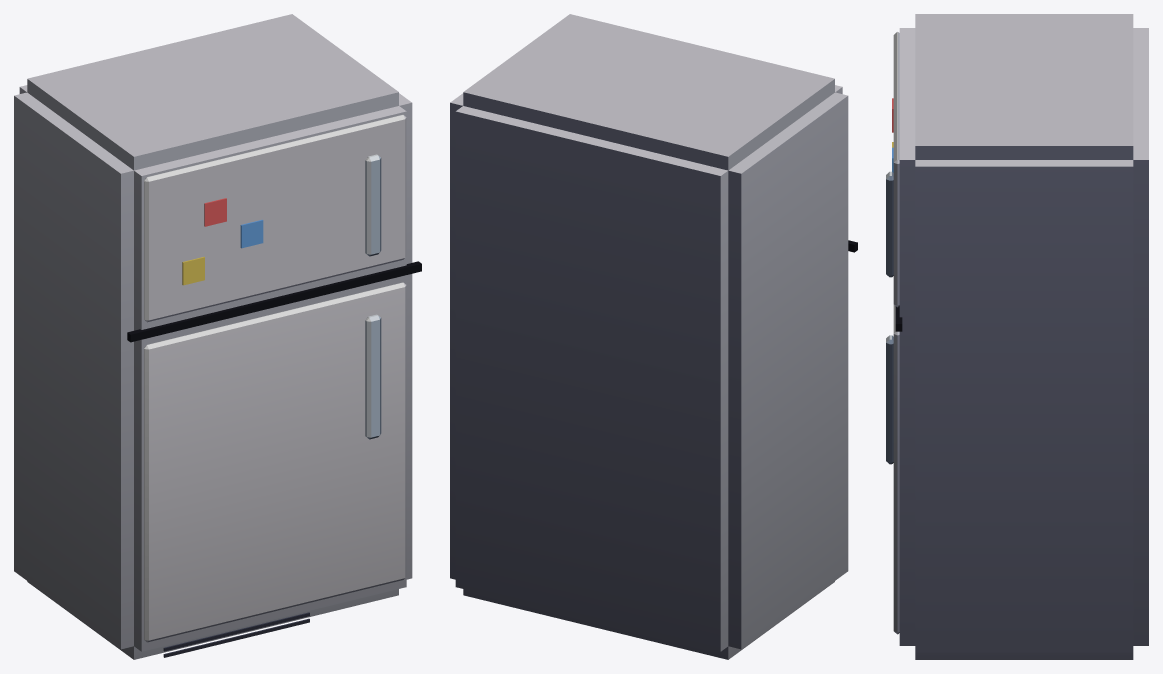
The model's file is fridge.glb.
The picture shows the model from 3 angles, left to right: view 1: azimuth 30°, elevation 25°; view 2: azimuth 150°, elevation 25°; view 3: azimuth 270°, elevation 25°; orthographic projection. The views are drawn at different scales.
Visible parts, largest first — view 1: fridge; view 2: fridge; view 3: fridge.
Boxes of the visible parts, x1,y1,x2,y2 form: fridge: (14, 14, 421, 659); fridge: (450, 14, 857, 659); fridge: (886, 14, 1148, 659).
Size of the model in its own units: 0.8 by 1.32 by 0.612.
